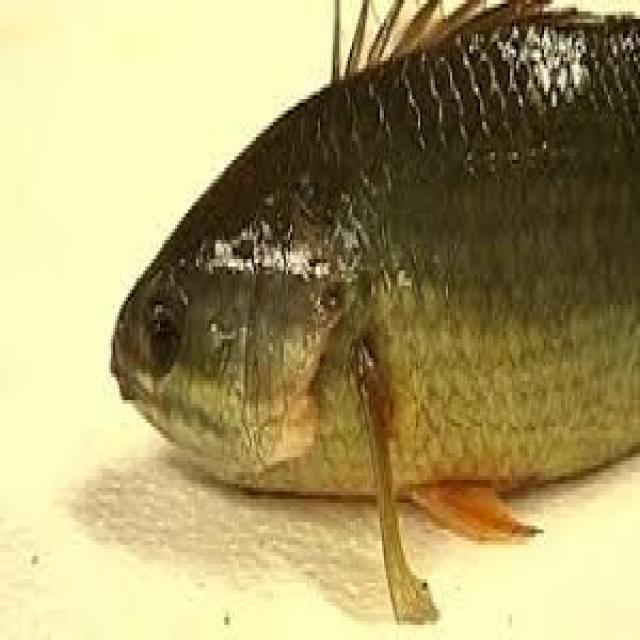Climbing-Perch: (100, 0, 630, 587)
